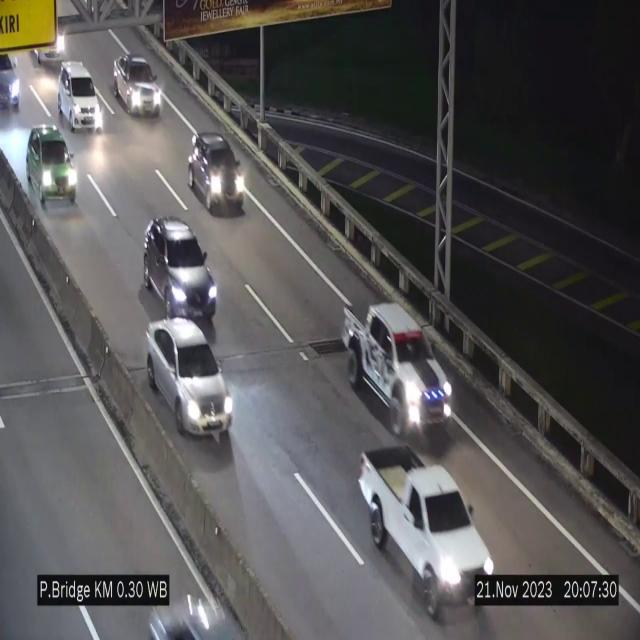Car: (359, 445, 494, 621), (341, 295, 453, 446), (146, 318, 232, 435), (142, 217, 218, 324), (190, 134, 252, 230), (24, 124, 82, 207), (59, 62, 102, 130), (113, 55, 161, 115), (0, 47, 23, 127)
